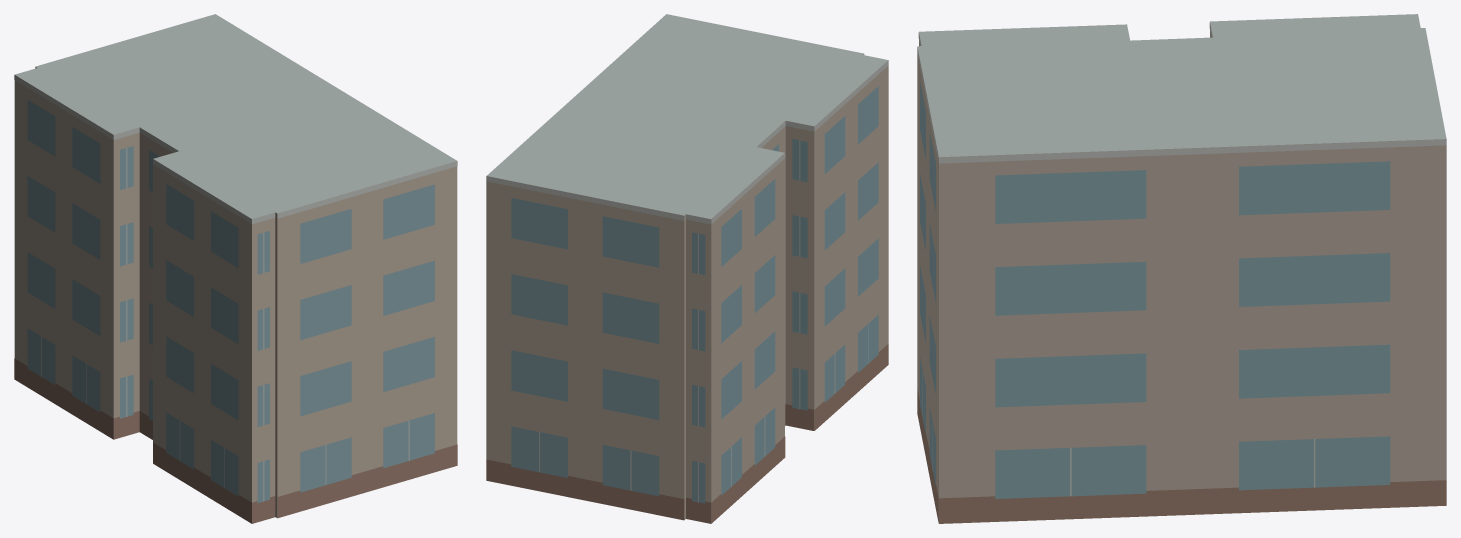
The model's file is survey-upis-33019685.glb.
3 views of the same model, side by side, from view 1: azimuth 30°, elevation 25°; view 2: azimuth 150°, elevation 25°; view 3: azimuth 270°, elevation 25° (orthographic). The views are drawn at different scales.
Visible parts, largest first — view 1: survey-upis-33019685.tmp; view 2: survey-upis-33019685.tmp; view 3: survey-upis-33019685.tmp.
Boxes of the visible parts, bbox=[...] form: survey-upis-33019685.tmp: bbox=[14, 14, 457, 523]; survey-upis-33019685.tmp: bbox=[486, 14, 888, 523]; survey-upis-33019685.tmp: bbox=[917, 14, 1446, 523].
Size of the model in its own units: 11.82 by 14.1 by 18.46.
